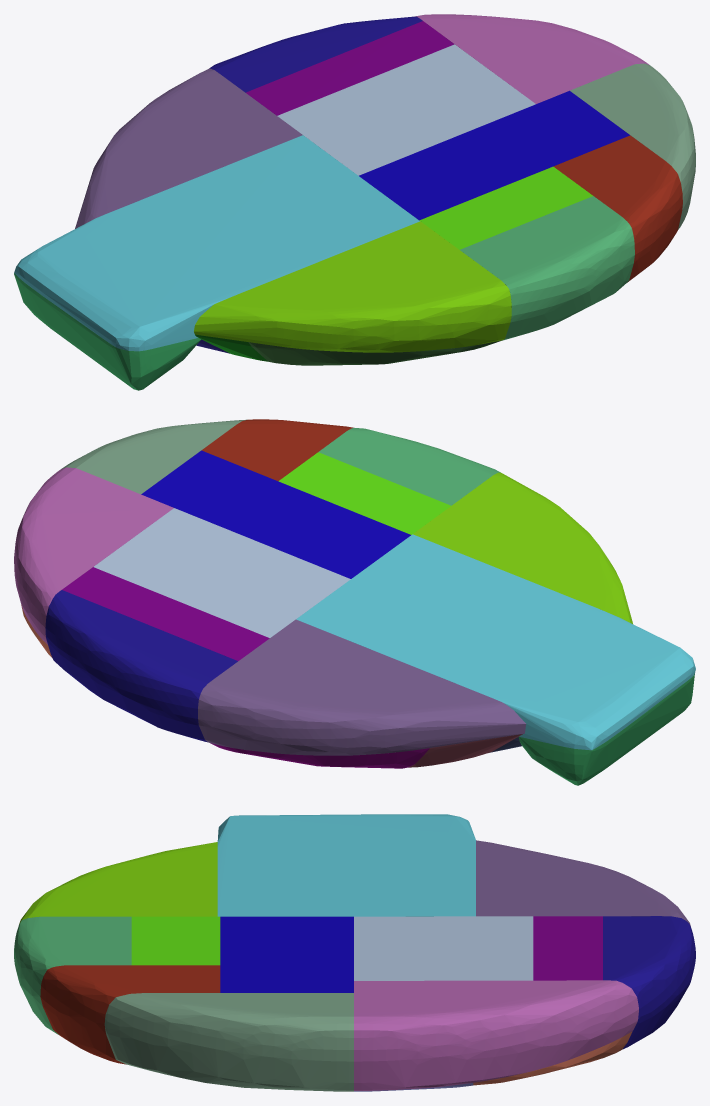
Rendered from bottom_cd.obj.
3 renders of one model, top to bottom at view 1: azimuth 30°, elevation 25°; view 2: azimuth 150°, elevation 25°; view 3: azimuth 270°, elevation 25°, orthographic. The views are drawn at different scales.
Visible parts, largest first — view 1: geometry_2, geometry_4, geometry_6, geometry_1, geometry_5, geometry_3, geometry_7, geometry_15, geometry_0, geometry_11, geometry_17, geometry_20 (+3 smaller); view 2: geometry_2, geometry_1, geometry_6, geometry_20, geometry_5, geometry_4, geometry_7, geometry_3, geometry_11, geometry_17, geometry_0, geometry_15 (+3 smaller); view 3: geometry_2, geometry_7, geometry_0, geometry_6, geometry_1, geometry_5, geometry_4, geometry_15, geometry_20, geometry_3, geometry_11, geometry_17 (+1 smaller).
Part boxes in pixels (x1=…): geometry_2: x1=14, y1=135, x2=419, y2=351; geometry_4: x1=194, y1=221, x2=511, y2=352; geometry_6: x1=277, y1=44, x2=535, y2=175; geometry_1: x1=75, y1=68, x2=302, y2=228; geometry_5: x1=359, y1=90, x2=629, y2=220; geometry_3: x1=460, y1=196, x2=634, y2=340; geometry_7: x1=415, y1=14, x2=649, y2=103; geometry_15: x1=553, y1=135, x2=682, y2=282; geometry_0: x1=570, y1=63, x2=695, y2=229; geometry_11: x1=246, y1=21, x2=454, y2=115; geometry_17: x1=419, y1=166, x2=592, y2=249; geometry_20: x1=209, y1=16, x2=422, y2=92; geometry_2: x1=296, y1=534, x2=695, y2=750; geometry_1: x1=198, y1=619, x2=525, y2=755; geometry_6: x1=94, y1=508, x2=350, y2=637; geometry_20: x1=45, y1=590, x2=237, y2=742; geometry_5: x1=141, y1=450, x2=410, y2=578; geometry_4: x1=413, y1=472, x2=632, y2=623; geometry_7: x1=14, y1=467, x2=173, y2=644; geometry_3: x1=318, y1=427, x2=500, y2=505; geometry_11: x1=62, y1=567, x2=269, y2=661; geometry_17: x1=278, y1=452, x2=450, y2=534; geometry_0: x1=61, y1=419, x2=246, y2=494; geometry_15: x1=201, y1=419, x2=353, y2=481; geometry_2: x1=217, y1=814, x2=475, y2=916; geometry_7: x1=354, y1=980, x2=638, y2=1090; geometry_0: x1=104, y1=993, x2=353, y2=1091; geometry_6: x1=354, y1=916, x2=533, y2=980; geometry_1: x1=476, y1=840, x2=690, y2=925; geometry_5: x1=220, y1=916, x2=353, y2=992; geometry_4: x1=19, y1=842, x2=217, y2=924; geometry_15: x1=40, y1=965, x2=220, y2=1064; geometry_20: x1=603, y1=916, x2=695, y2=1049; geometry_3: x1=14, y1=916, x2=131, y2=1034; geometry_11: x1=533, y1=916, x2=602, y2=980; geometry_17: x1=131, y1=916, x2=220, y2=965.
Size of the model in its own units: 192 by 46.79 by 174.
